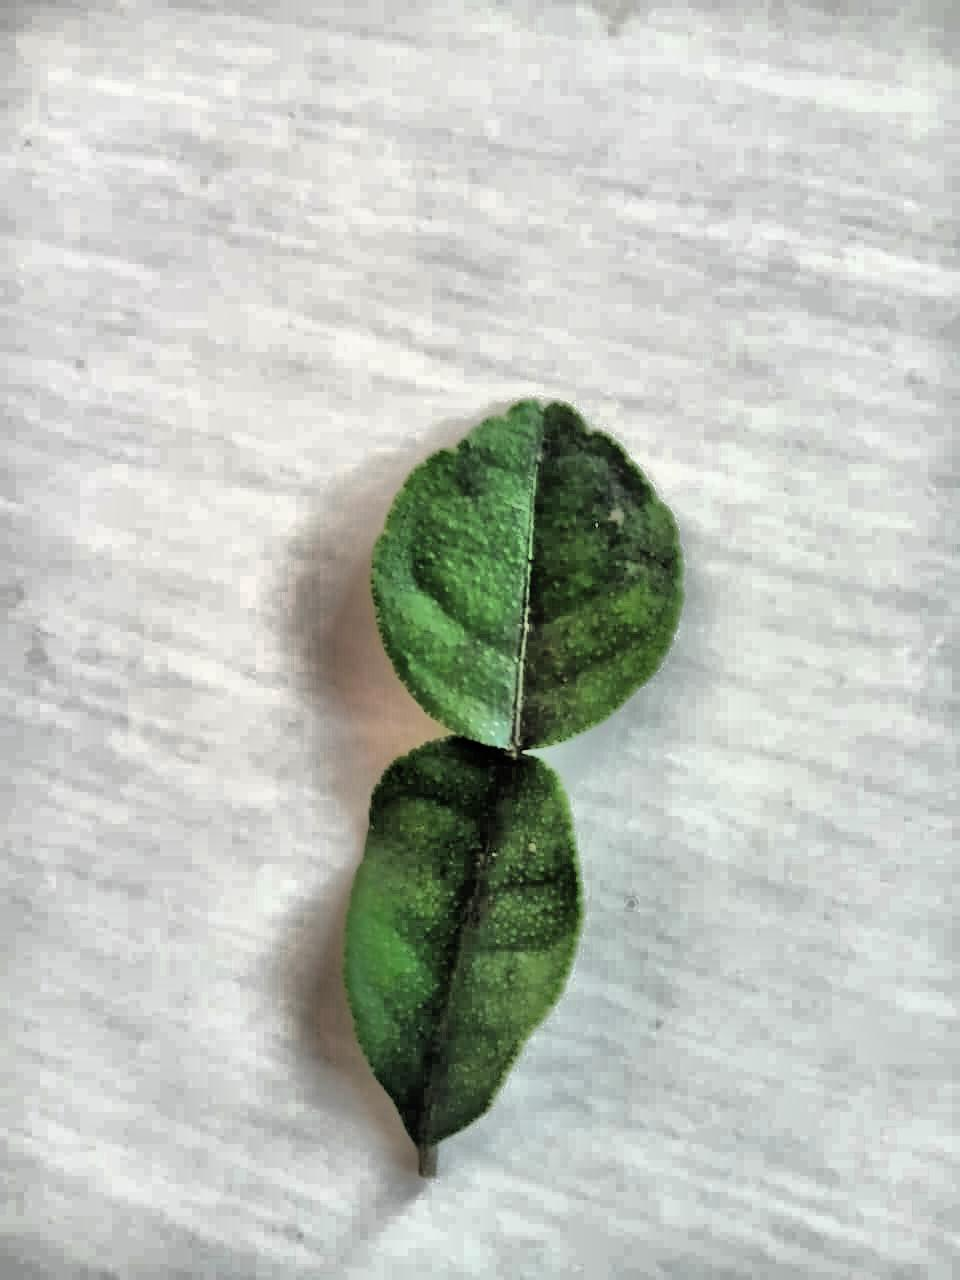daun jeruk: (343, 401, 682, 1175)
